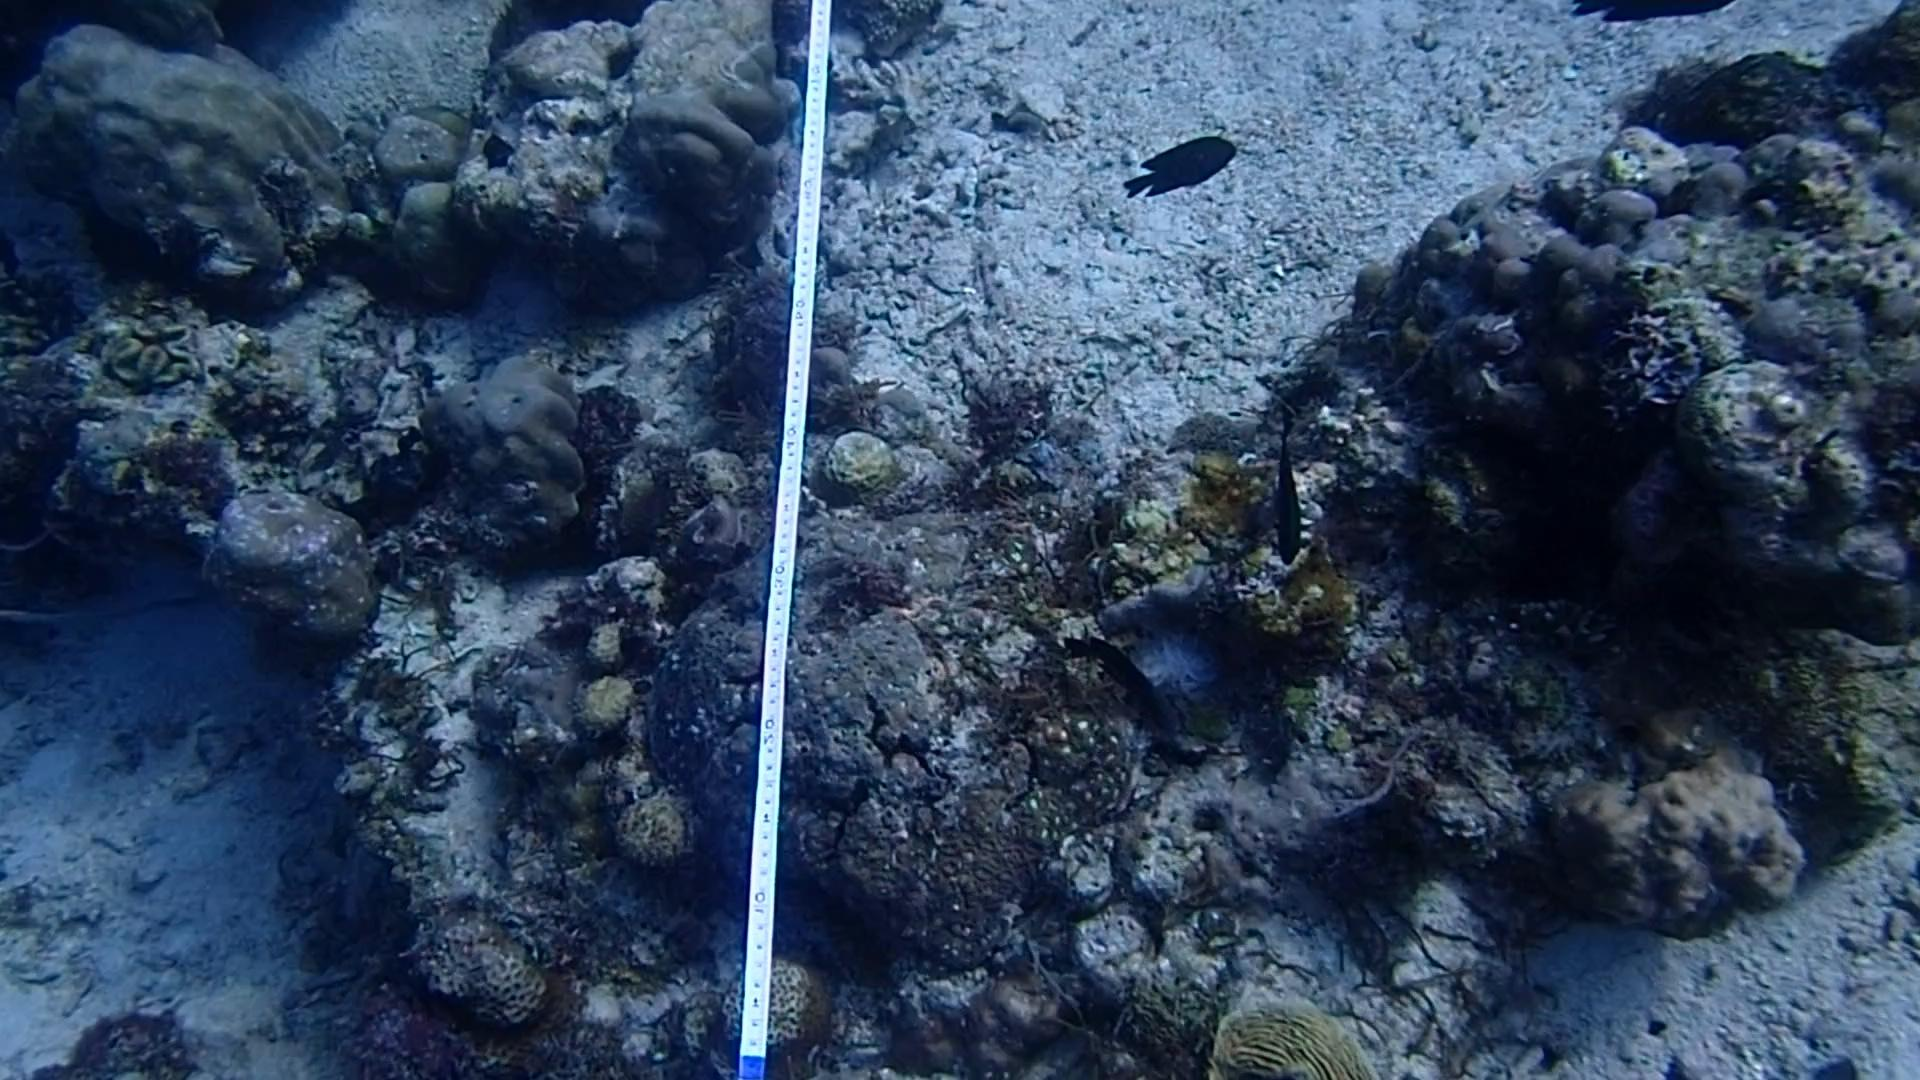Dark Fish: (1120, 124, 1250, 218), (1058, 616, 1175, 712), (1259, 407, 1317, 566), (1561, 0, 1750, 28)
